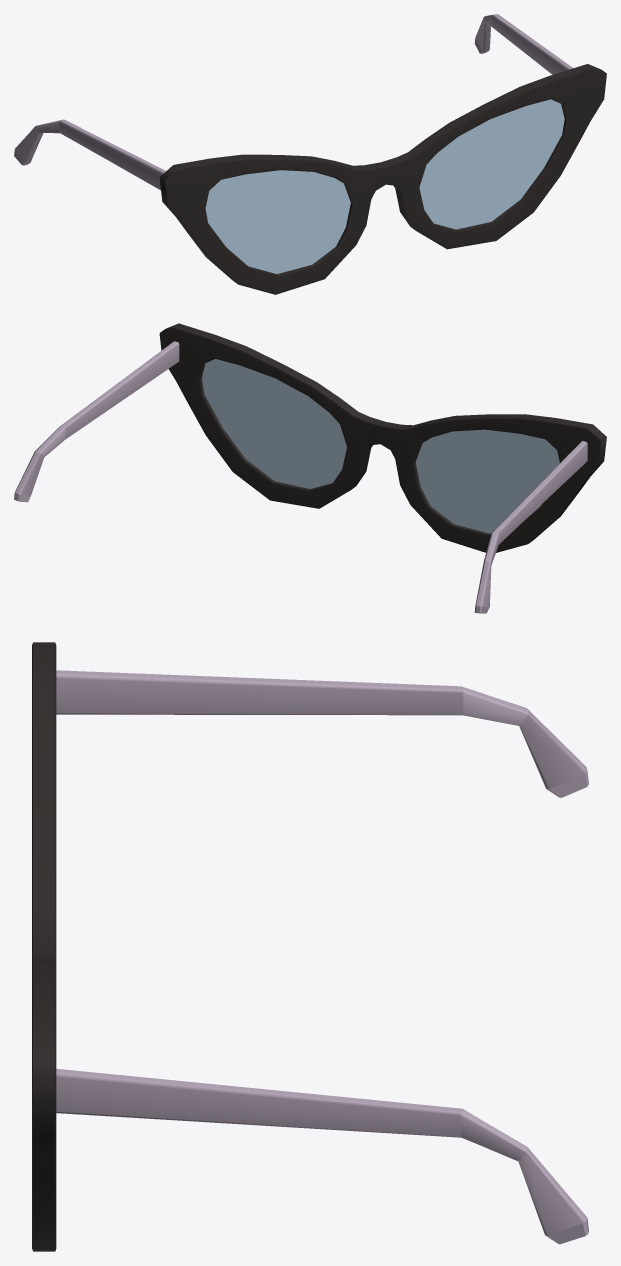
The model's file is Glasses_15_01.fbx.
3 renders of one model, top to bottom at view 1: azimuth 30°, elevation 25°; view 2: azimuth 150°, elevation 25°; view 3: azimuth 270°, elevation 25°, orthographic. The views are drawn at different scales.
Visible parts, largest first — view 1: Glasses_15_01; view 2: Glasses_15_01; view 3: Glasses_15_01.
Boxes of the visible parts, left/top/right/bottom form: Glasses_15_01: left=14, top=14, right=606, bottom=294; Glasses_15_01: left=14, top=323, right=606, bottom=613; Glasses_15_01: left=32, top=642, right=588, bottom=1251.
Bounding box in the file's own units: 39.16 × 11.96 × 20.19.
